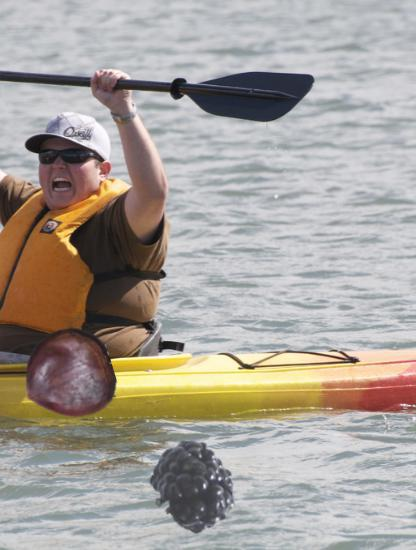Chestnut: (20, 328, 114, 422)
Mulberry: (148, 431, 257, 540)
